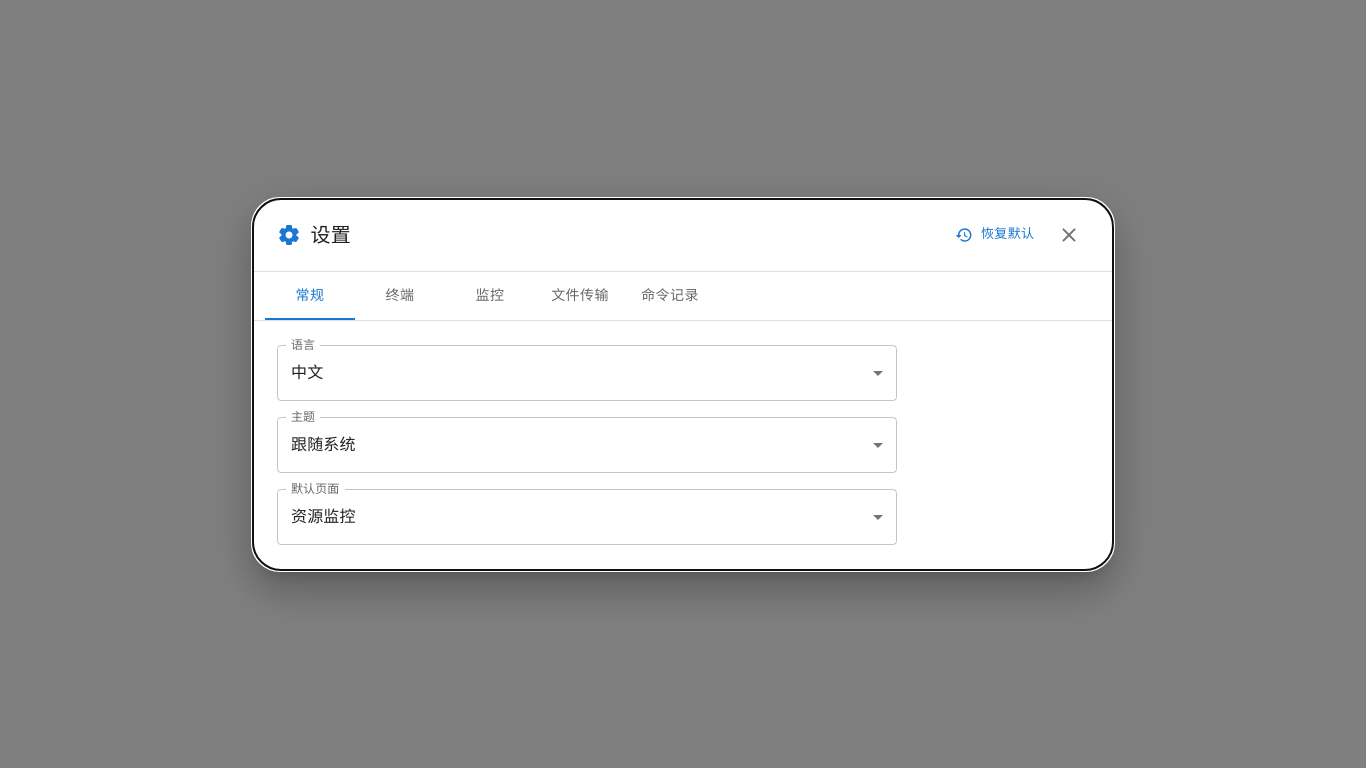
SettingsView › keeps a requested close pending only until a failed save can be shown
Step 1. Click the tab "终端" → coordinates (400, 296), box 355,272 -> 445,320
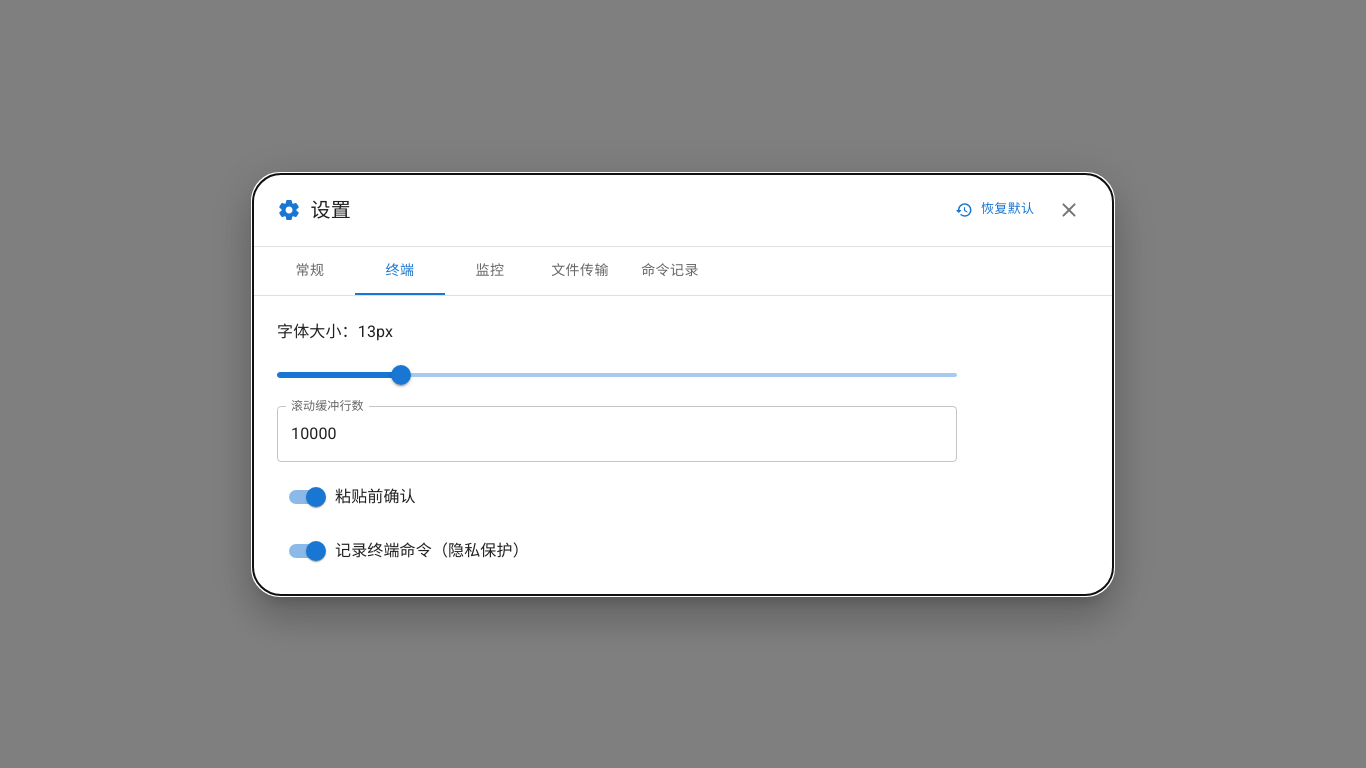
Step 2. Click the switch labelled "粘贴前确认" → coordinates (352, 496), box 289,486 -> 416,506
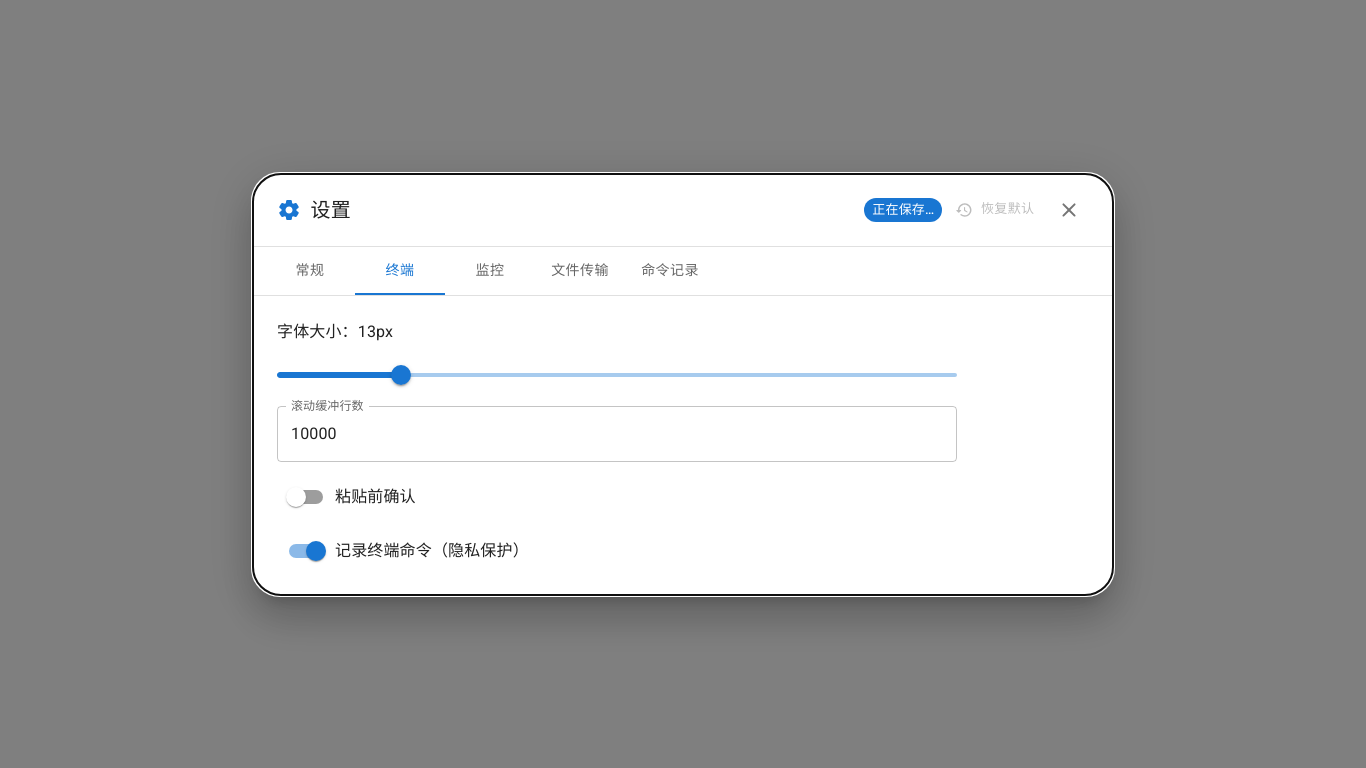
Step 3. Click the button named "关闭设置" → coordinates (1069, 210), box 1049,190 -> 1089,230
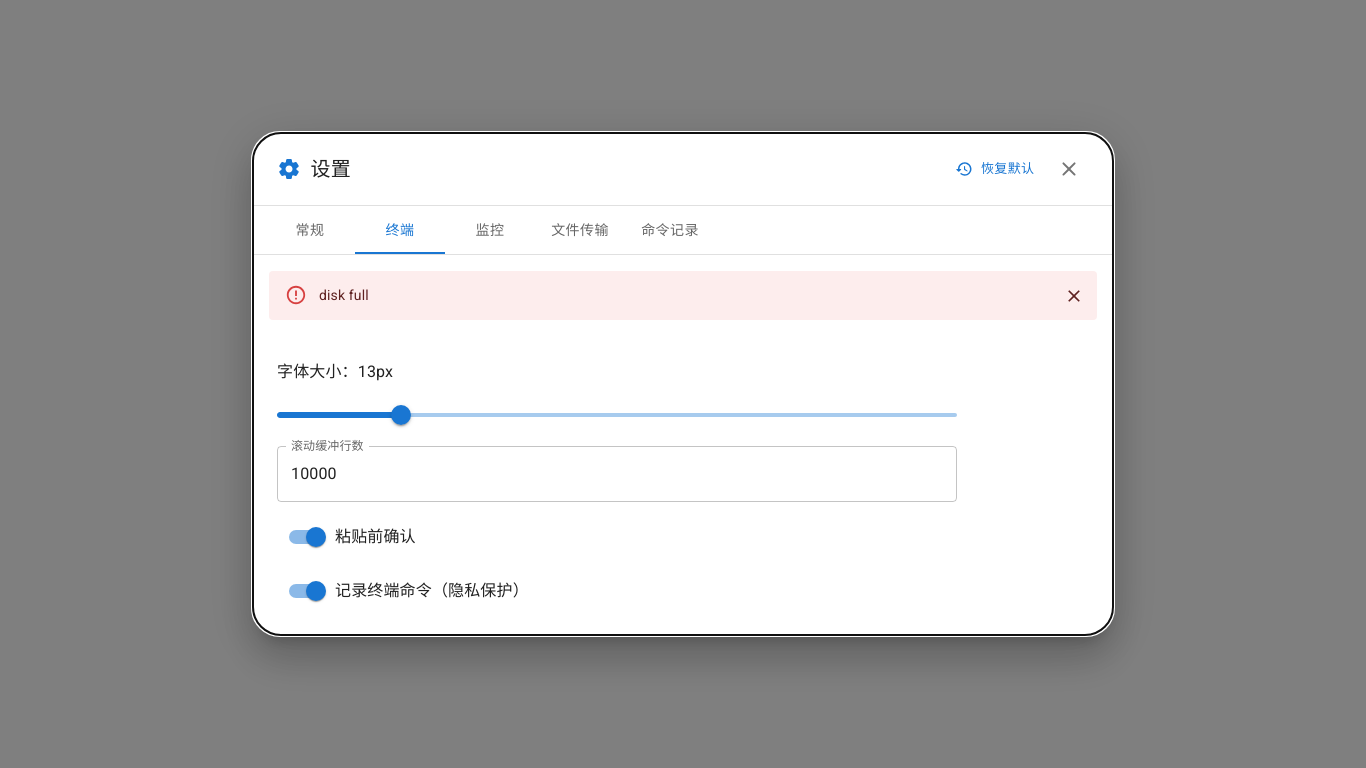
Now the text "disk full" is shown, box 319,288 -> 369,304
